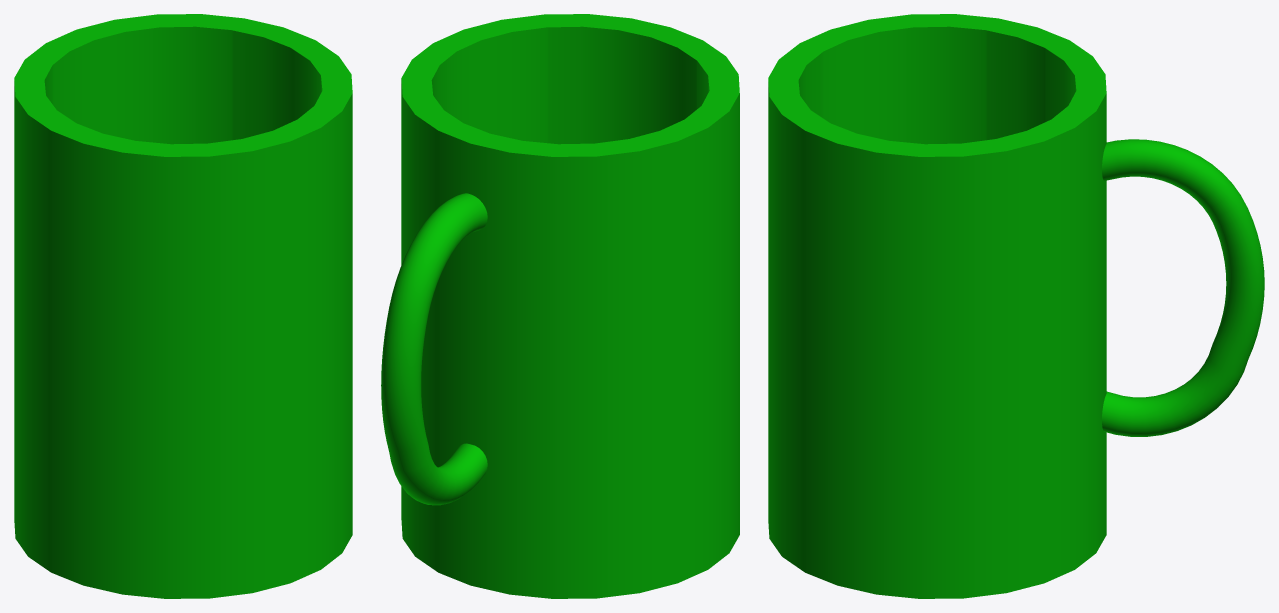
The picture shows the model from 3 angles, left to right: view 1: azimuth 30°, elevation 25°; view 2: azimuth 150°, elevation 25°; view 3: azimuth 270°, elevation 25°; orthographic projection.
Parts seen in each view (by area): view 1: mesh1_mesh1-geometry; view 2: mesh1_mesh1-geometry, mesh2_mesh2-geometry; view 3: mesh1_mesh1-geometry, mesh2_mesh2-geometry.
Part boxes in pixels (bbox=[...]): mesh1_mesh1-geometry: bbox=[14, 14, 352, 598]; mesh1_mesh1-geometry: bbox=[401, 14, 739, 598]; mesh2_mesh2-geometry: bbox=[381, 193, 487, 505]; mesh1_mesh1-geometry: bbox=[768, 14, 1106, 598]; mesh2_mesh2-geometry: bbox=[1102, 139, 1264, 436].
Bounding box in the file's own units: 0.4373 × 0.6302 × 0.6416.
